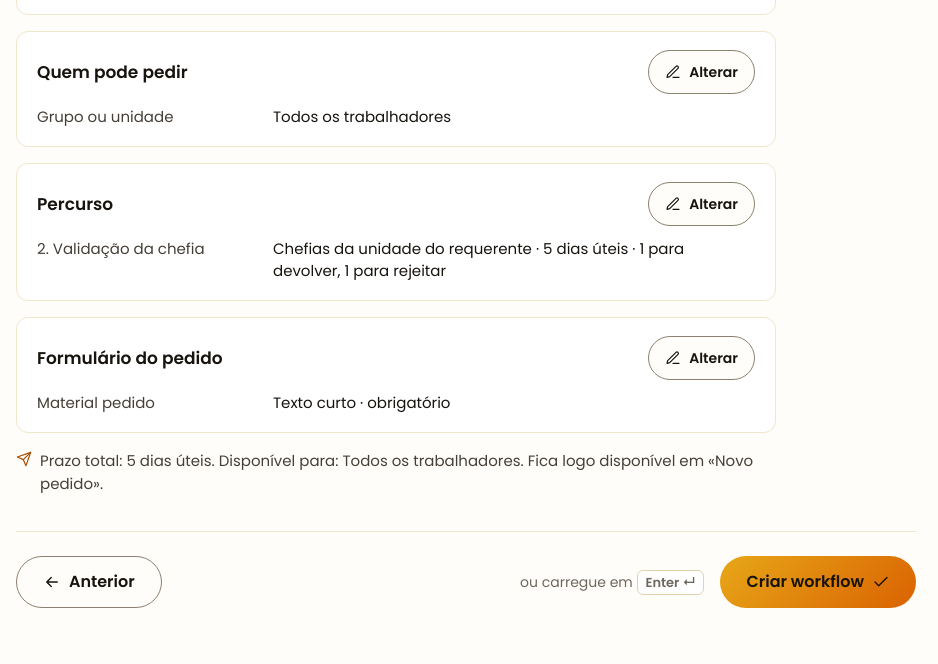
it: creating a workflow › shows what the Designer refused when publishing
(page scrolled)
What coordinates should you click on to do the following:
click the button "Criar workflow"
I would click on:
 (818, 582)
Its box is x1=720 y1=556 x2=916 y2=608.
(page scrolled)
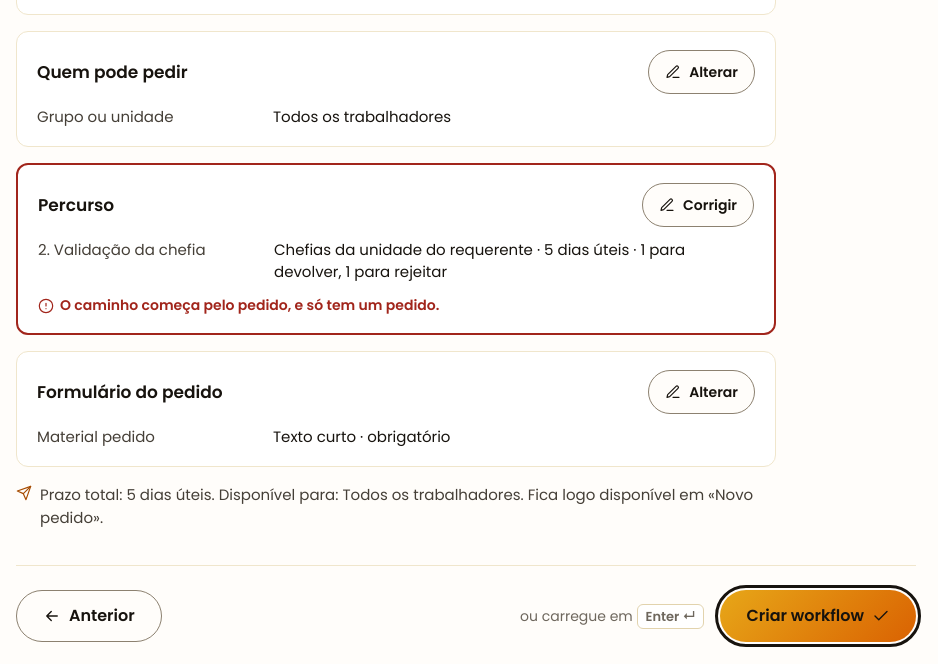
Expected: the text "O caminho começa pelo pedido, e só tem um pedido." is shown, x1=38 y1=295 x2=439 y2=315
